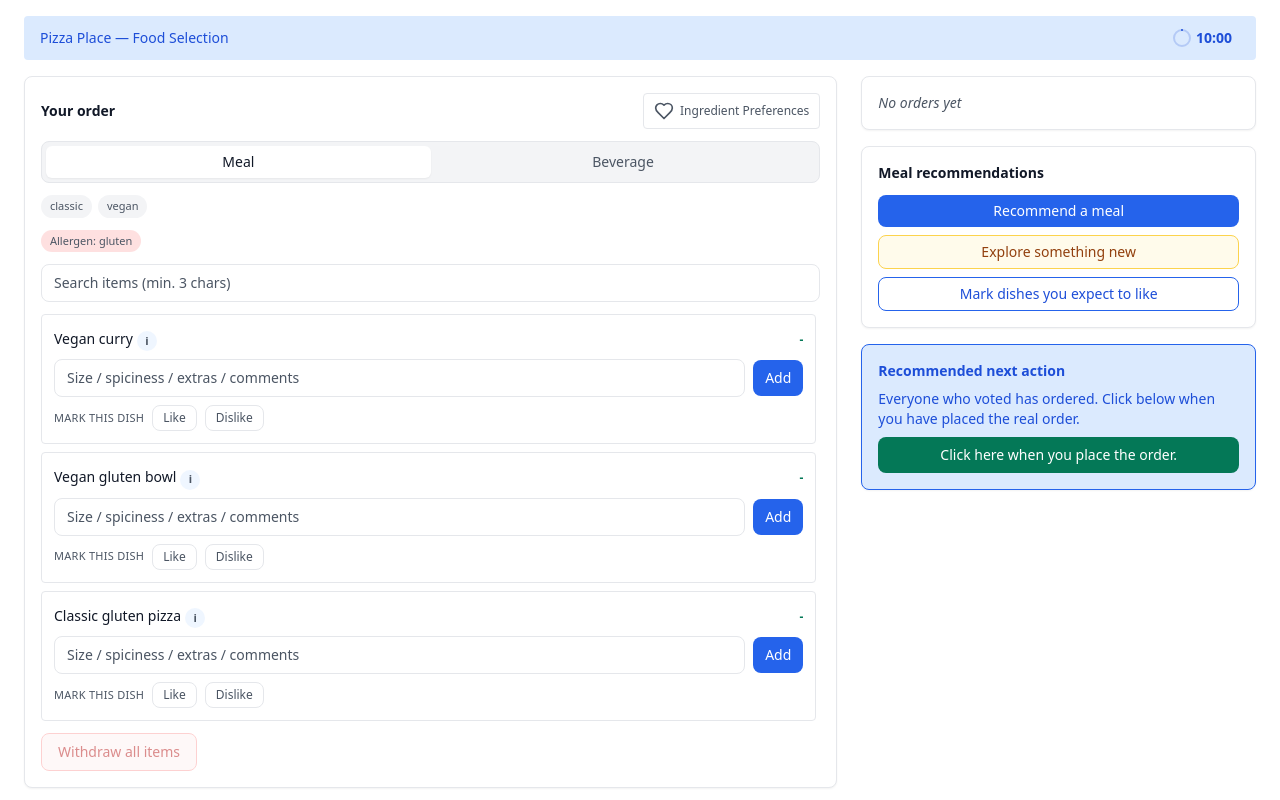
Test: FoodSelectionActiveView › composes safety exclusions with tag and search filters
Click the button "vegan": point(123, 206) [98,195,148,218]
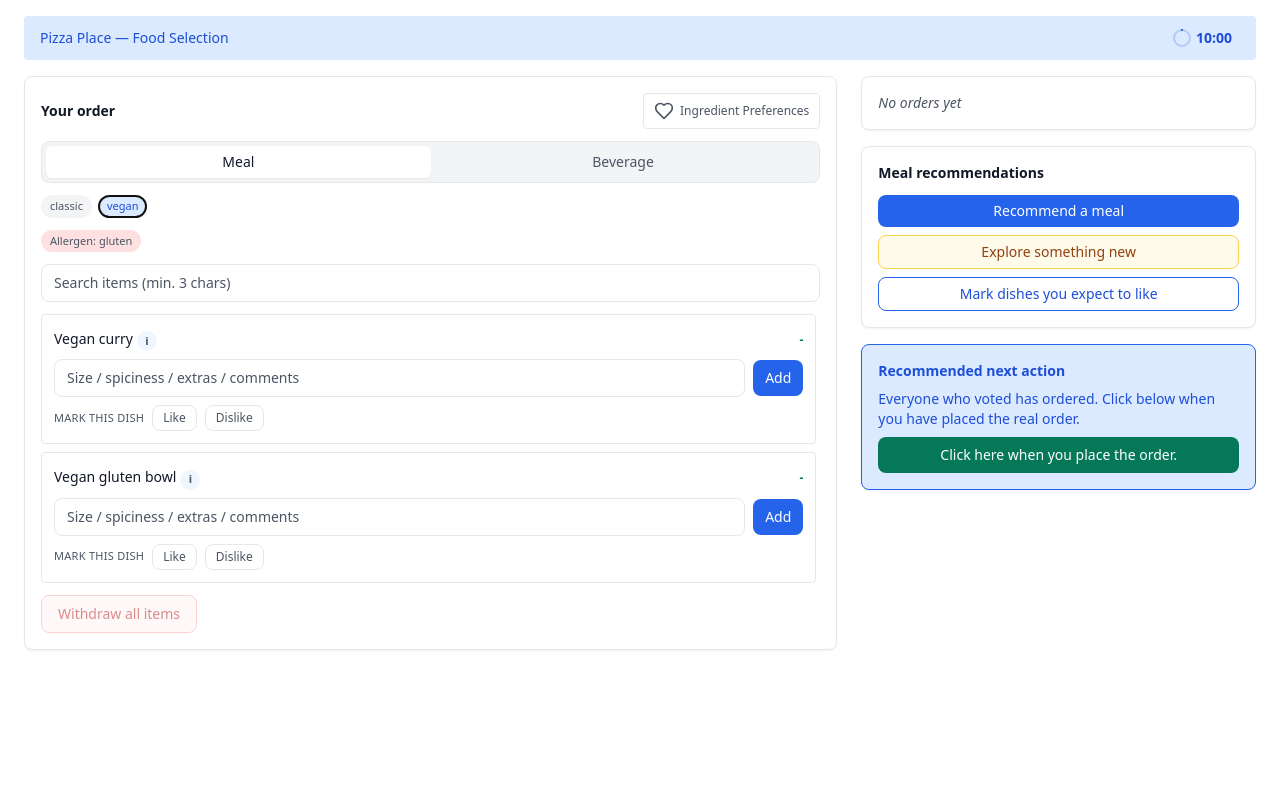
In the field with placeholder "Search items (min. 3 chars)": point(431, 283) [41,264,820,302], type "veg"
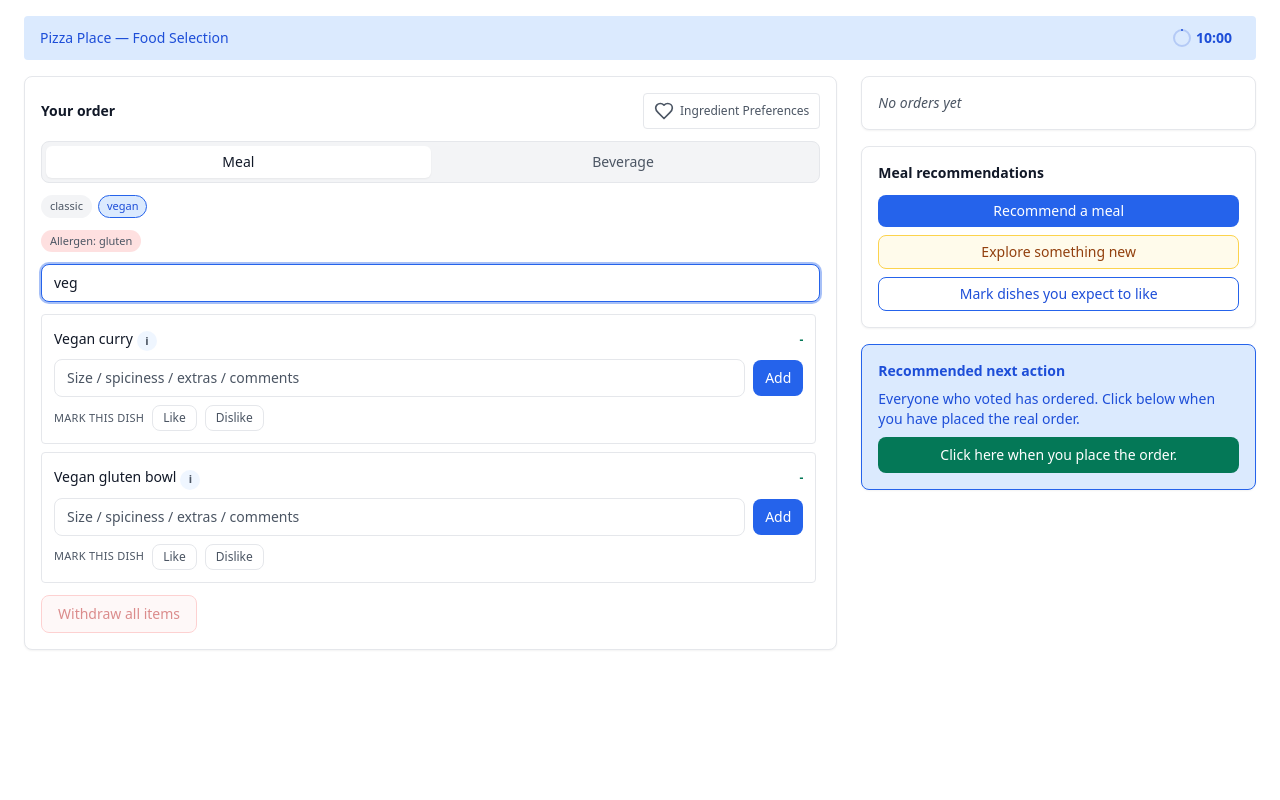
Click the button with aria-label "Exclude allergen gluten": point(91, 241) [41,230,141,252]
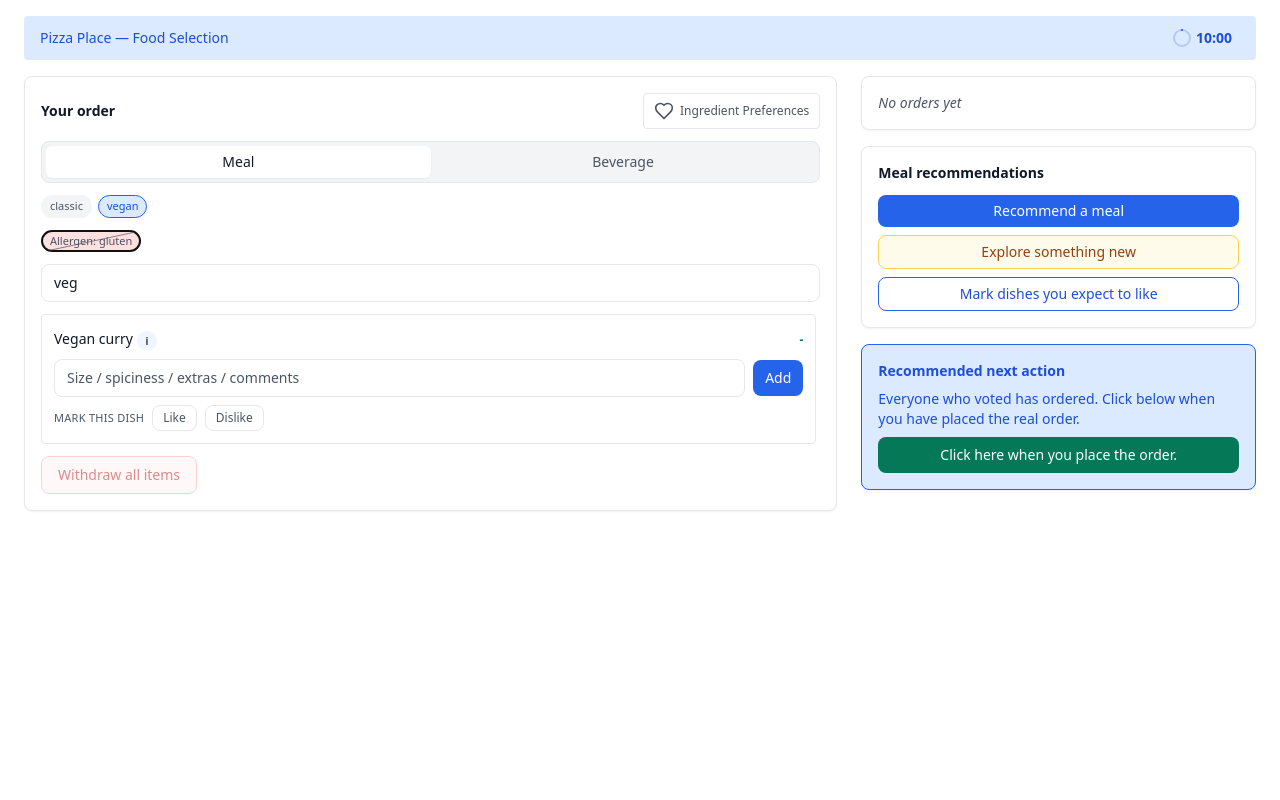
Check: the text "Vegan curry" is shown, box [54,329,133,348]
Check: the text "Vegan gluten bowl" is gone
Click the button with aria-label "Exclude allergen gluten": point(91, 241) [41,230,141,252]
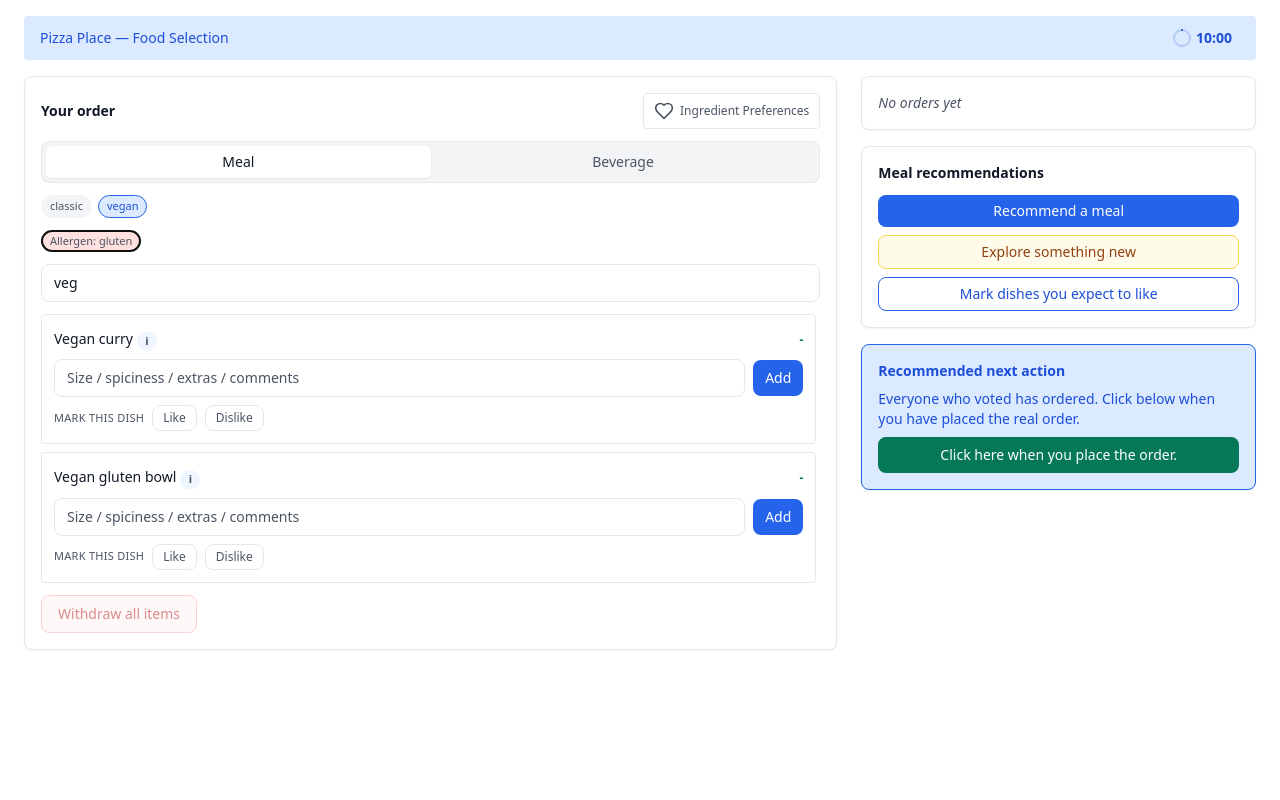
Check: the text "Classic gluten pizza" is not shown
Check: the text "Vegan gluten bowl" is shown, box [54,467,176,486]
